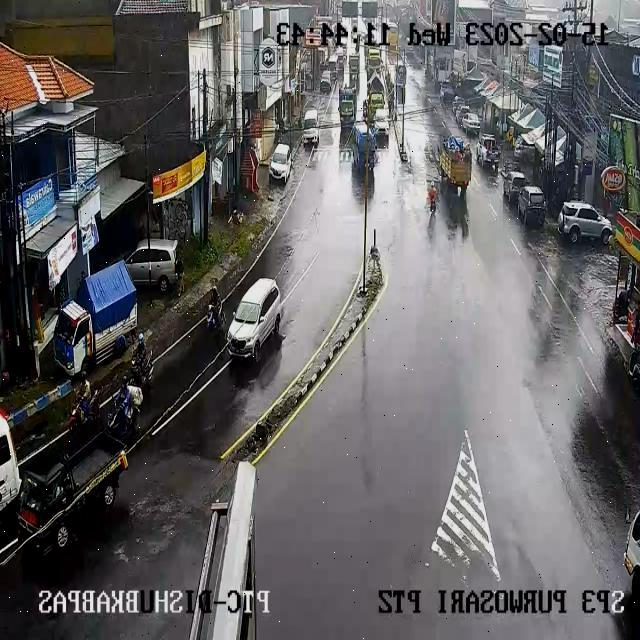Bus: (354, 129, 374, 171), (388, 24, 399, 45)
Car: (226, 278, 284, 360), (125, 238, 182, 292), (558, 200, 613, 244), (514, 185, 547, 227), (270, 144, 294, 182), (500, 170, 528, 202), (475, 135, 501, 167), (372, 108, 390, 142), (303, 109, 320, 142), (462, 112, 482, 134), (454, 105, 471, 125), (440, 82, 456, 102), (320, 70, 334, 92), (452, 96, 466, 115), (328, 54, 339, 75), (335, 46, 345, 61)
Motorbike: (108, 378, 141, 432), (69, 375, 96, 431), (130, 329, 154, 376), (203, 289, 222, 331), (428, 182, 438, 211)
Truck: (18, 432, 128, 558), (54, 261, 136, 376), (437, 138, 472, 189), (367, 78, 385, 118), (338, 90, 355, 124), (367, 48, 381, 68), (348, 54, 360, 75)
